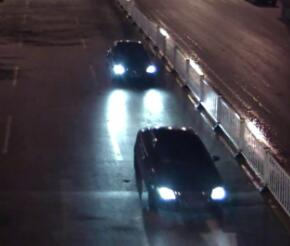car: (132, 125, 228, 212), (104, 36, 156, 88)
